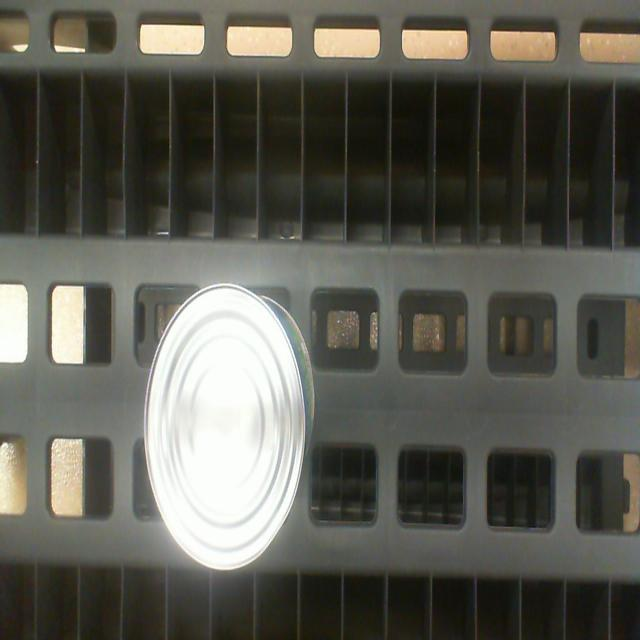can: (144, 284, 308, 570)
